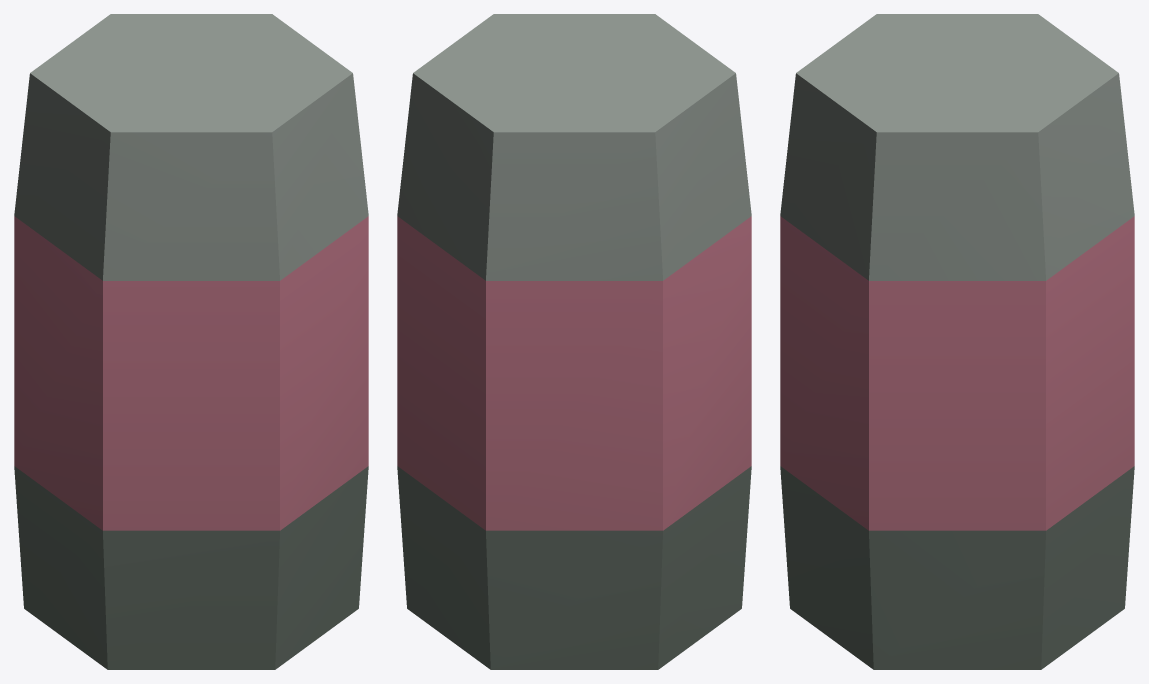
Rendered from custom-lixo-lata.glb.
3 views of the same model, side by side, from view 1: azimuth 30°, elevation 25°; view 2: azimuth 150°, elevation 25°; view 3: azimuth 270°, elevation 25° (orthographic).
Parts seen in each view (by area): view 1: lixo-lata; view 2: lixo-lata; view 3: lixo-lata.
Part boxes in pixels (bbox=[...]): lixo-lata: bbox=[14, 14, 368, 669]; lixo-lata: bbox=[397, 14, 751, 669]; lixo-lata: bbox=[780, 14, 1134, 669].
Size of the model in its own units: 0.1559 by 0.3 by 0.18.
